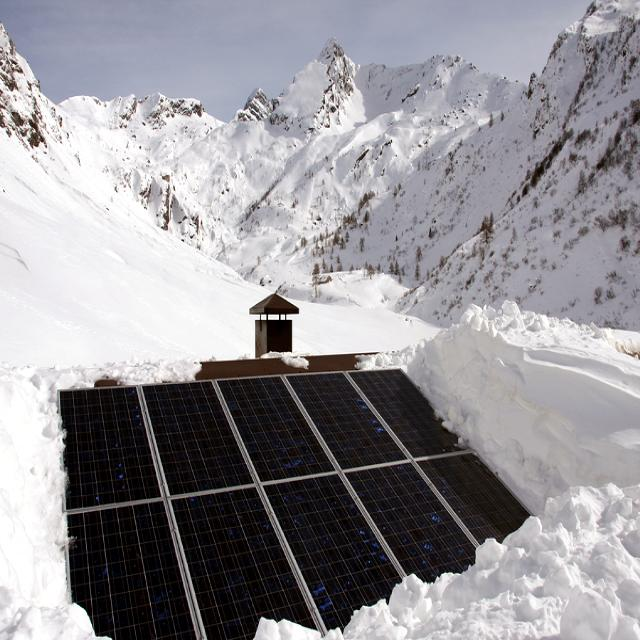panel: (417, 347, 483, 465), (404, 550, 524, 610), (337, 591, 453, 640), (122, 332, 202, 396), (488, 522, 554, 566), (44, 396, 74, 486), (60, 596, 121, 640), (354, 356, 418, 391), (249, 615, 334, 640), (44, 504, 74, 567), (42, 373, 112, 399)
